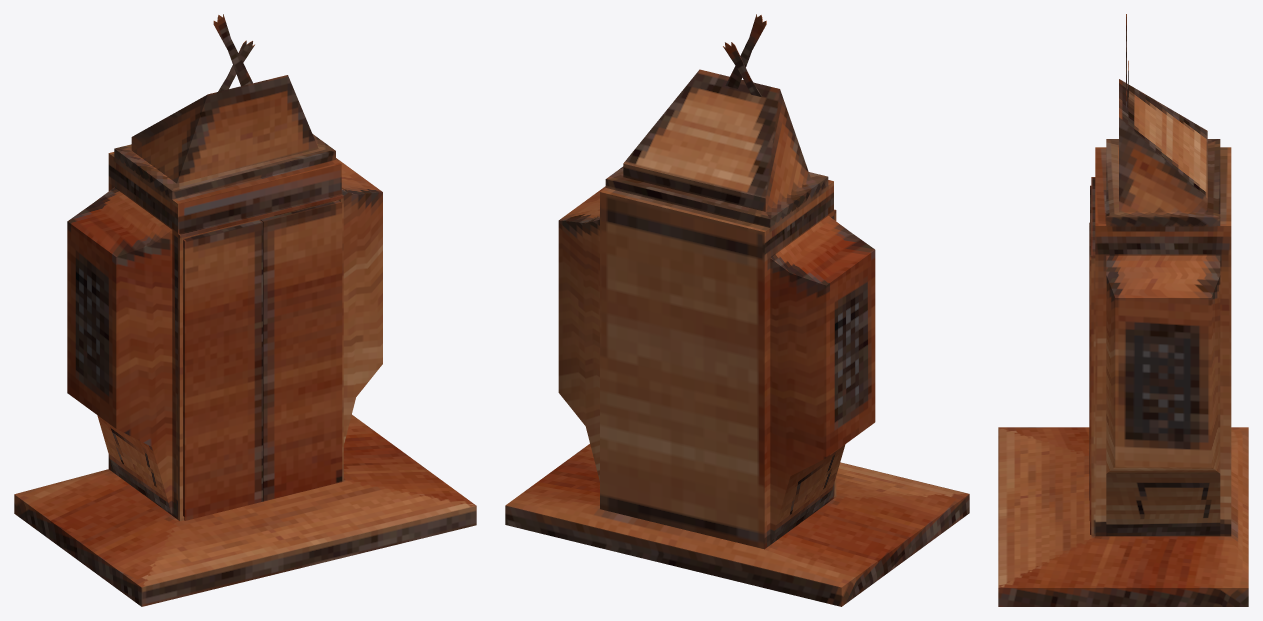
Rendered from confessionary.glb.
The picture shows the model from 3 angles, left to right: view 1: azimuth 30°, elevation 25°; view 2: azimuth 150°, elevation 25°; view 3: azimuth 270°, elevation 25°; orthographic projection. The views are drawn at different scales.
Visible parts, largest first — view 1: confessionario_low, leftDoor_low, rightDoor_low; view 2: confessionario_low; view 3: confessionario_low, leftDoor_low.
Boxes of the visible parts, x1,y1,x2,y2 form: confessionario_low: (14,14,476,606); leftDoor_low: (260,200,342,501); rightDoor_low: (183,219,263,520); confessionario_low: (505,14,969,606); confessionario_low: (998,14,1248,606); leftDoor_low: (1089,222,1091,534).
Size of the model in its own units: 2.68 by 3.9 by 1.77.
Materials: 3 (3 with a texture image).
